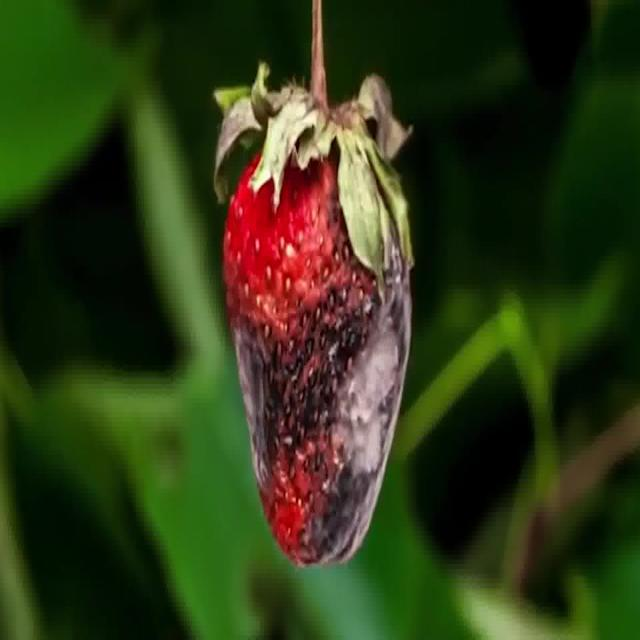Moho gris: (216, 100, 426, 594)
Podredumbre de cuero: (278, 264, 350, 428)
